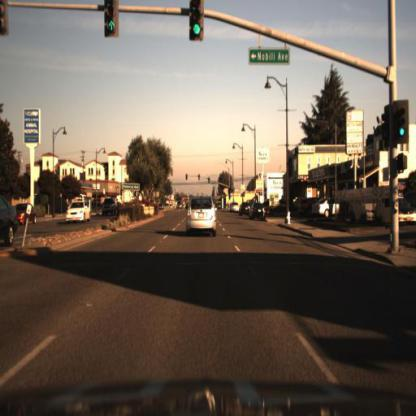car: (184, 192, 222, 246), (353, 191, 383, 225), (312, 195, 349, 222), (2, 195, 19, 249), (65, 198, 92, 226), (313, 197, 341, 219), (14, 204, 39, 225), (99, 193, 119, 219), (250, 203, 270, 225)
